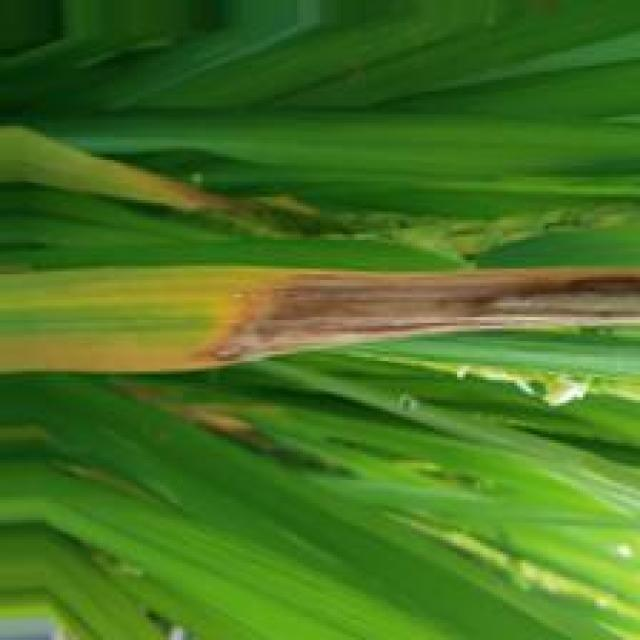Leaf_Scald: (189, 266, 640, 365)
